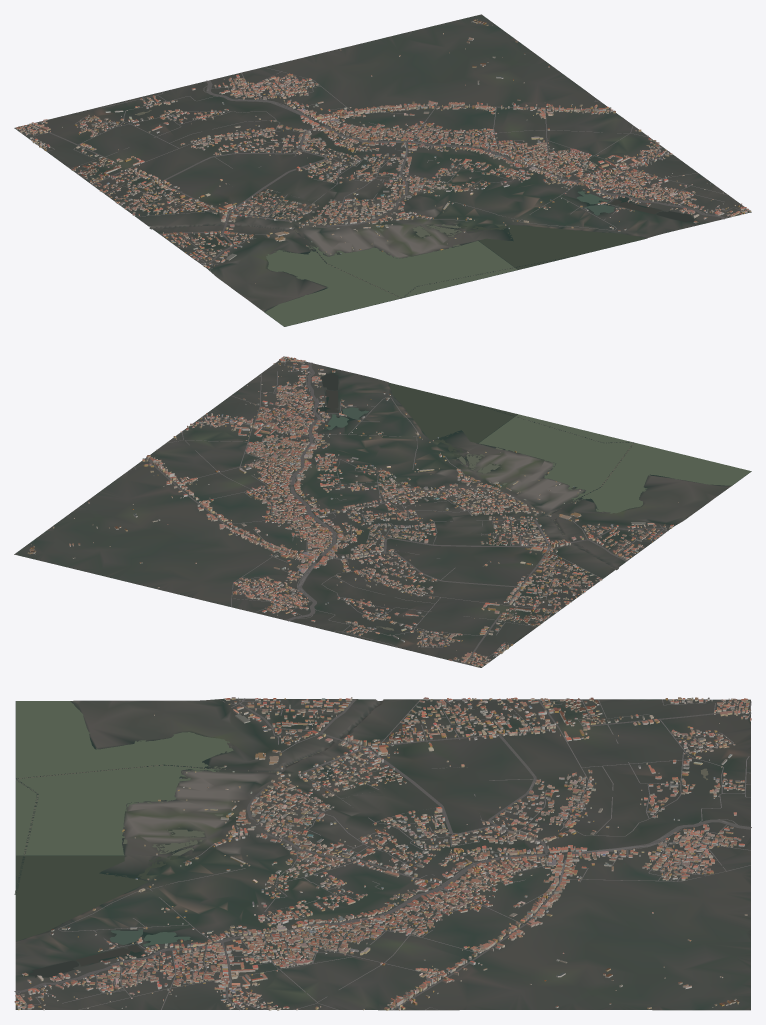
The picture shows the model from 3 angles, top to bottom: view 1: azimuth 30°, elevation 25°; view 2: azimuth 150°, elevation 25°; view 3: azimuth 270°, elevation 25°; orthographic projection. The views are drawn at different scales.
Parts seen in each view (by area): view 1: ground, buildings, water, roads; view 2: ground, buildings, water, roads; view 3: ground, buildings, water, roads.
Part boxes in pixels (left/top/right/bottom): ground: left=14, top=14, right=751, bottom=326; buildings: left=16, top=19, right=751, bottom=283; water: left=135, top=101, right=695, bottom=326; roads: left=17, top=67, right=745, bottom=270; ground: left=14, top=356, right=751, bottom=667; buildings: left=27, top=356, right=678, bottom=666; water: left=279, top=373, right=751, bottom=630; roads: left=133, top=361, right=667, bottom=667; ground: left=15, top=698, right=750, bottom=1010; buildings: left=14, top=697, right=751, bottom=1010; water: left=14, top=701, right=708, bottom=977; roads: left=14, top=698, right=751, bottom=1010.
Bounding box in the file's own units: 2810 × 31.42 × 2813.
